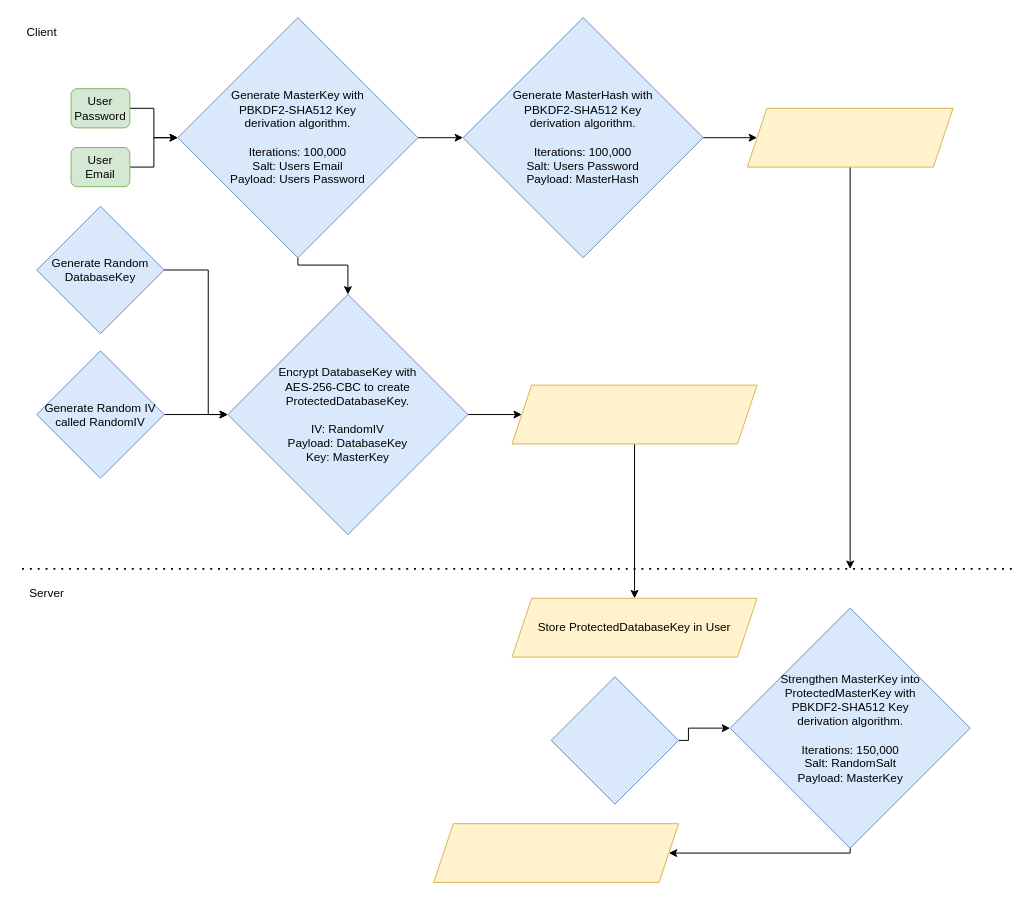
The diagram is 1030 pixels wide and 900 high, and some of its shapes have lost their labels. Each missing label, with the centre of its shape:
Generate Random Salt called RandomSalt: (x=614, y=740)
Send MasterHash to Server: (x=849, y=137)
Send ProtectedDatabaseKey to Server: (x=634, y=414)
Store ProtectedMasterKey in User: (x=556, y=852)
